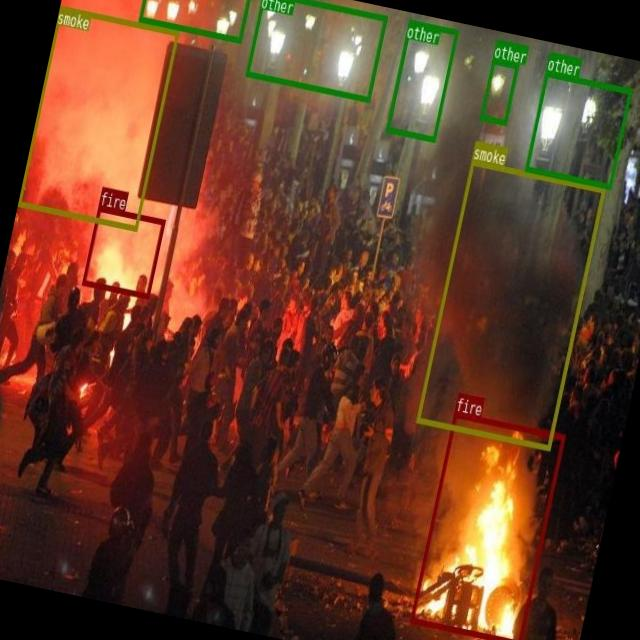fire: (409, 411, 564, 640), (80, 205, 164, 298)
smoke: (415, 158, 605, 450), (18, 5, 180, 230)
